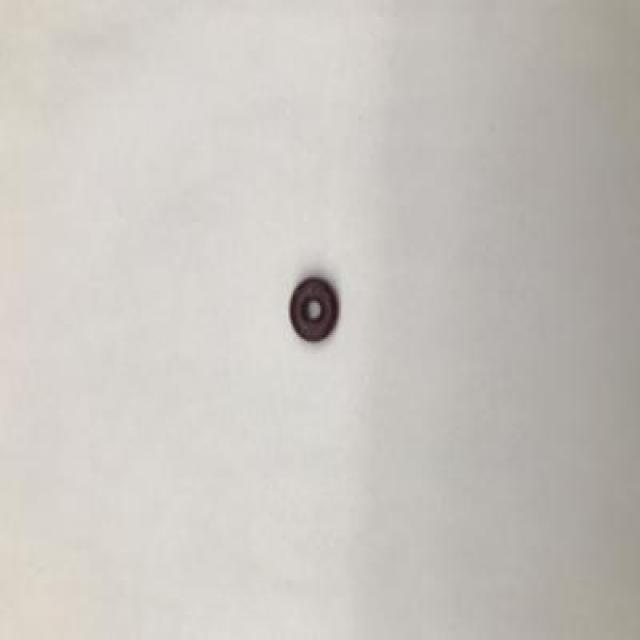compost: (273, 265, 355, 367)
